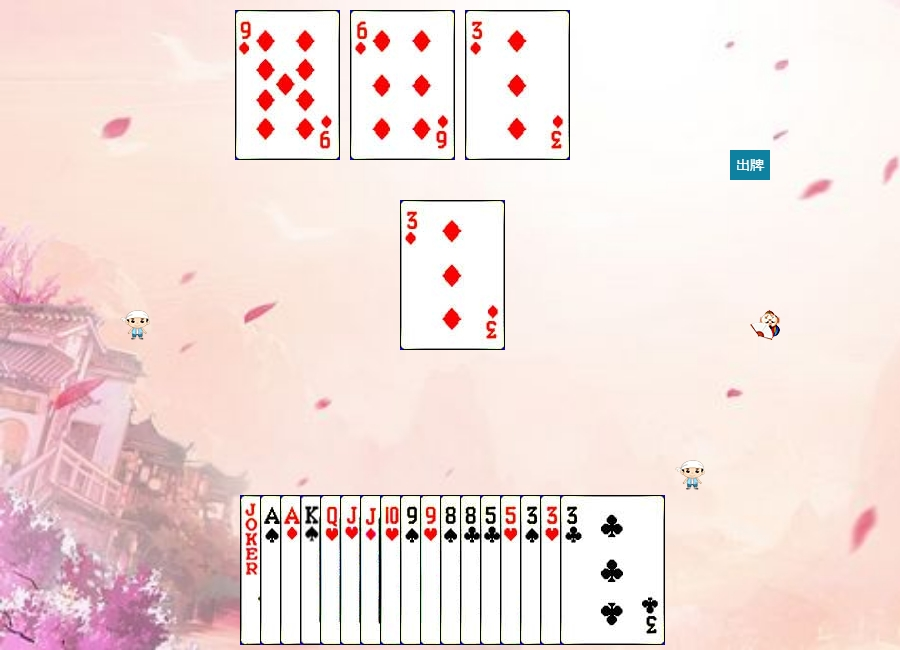10~3: (380, 495, 485, 645)
11~1: (360, 495, 465, 645)
11~3: (340, 495, 445, 645)
12~3: (320, 495, 425, 645)
13~4: (300, 495, 405, 645)
14~1: (280, 495, 385, 645)
14~4: (260, 495, 365, 645)
18~4: (240, 495, 345, 645)
3~1: (465, 10, 570, 160), (400, 200, 505, 350)
3~2: (560, 495, 665, 645)
3~3: (540, 495, 645, 645)
3~4: (520, 495, 625, 645)
5~2: (480, 495, 585, 645)
5~3: (500, 495, 605, 645)
6~1: (350, 10, 455, 160)
8~2: (460, 495, 565, 645)
8~4: (440, 495, 545, 645)
9~1: (235, 10, 340, 160)
9~3: (420, 495, 525, 645)
9~4: (400, 495, 505, 645)
